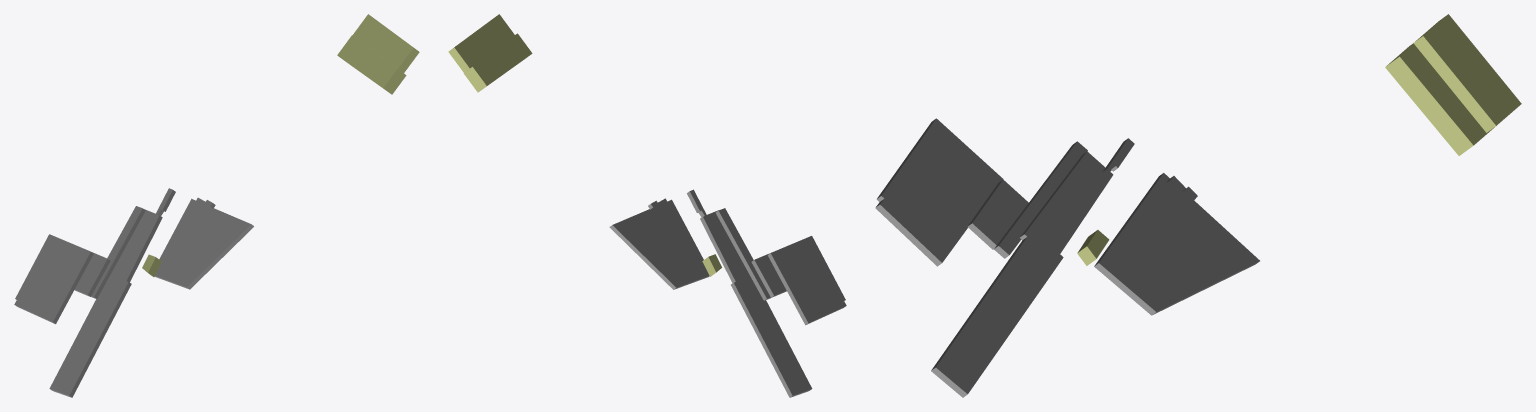
3 renders of one model, left to right at view 1: azimuth 30°, elevation 25°; view 2: azimuth 150°, elevation 25°; view 3: azimuth 330°, elevation 25°, orthographic. The views are drawn at different scales.
Parts seen in each view (by area): view 1: 0_1_0_0_0_2; view 2: 0_1_0_0_0_2; view 3: 0_1_0_0_0_2.
Part boxes in pixels (x1,y1,x2,y2): 0_1_0_0_0_2: (14, 14, 419, 397); 0_1_0_0_0_2: (448, 14, 846, 397); 0_1_0_0_0_2: (875, 14, 1521, 397).
Size of the model in its own units: 227 by 168 by 9.5.
